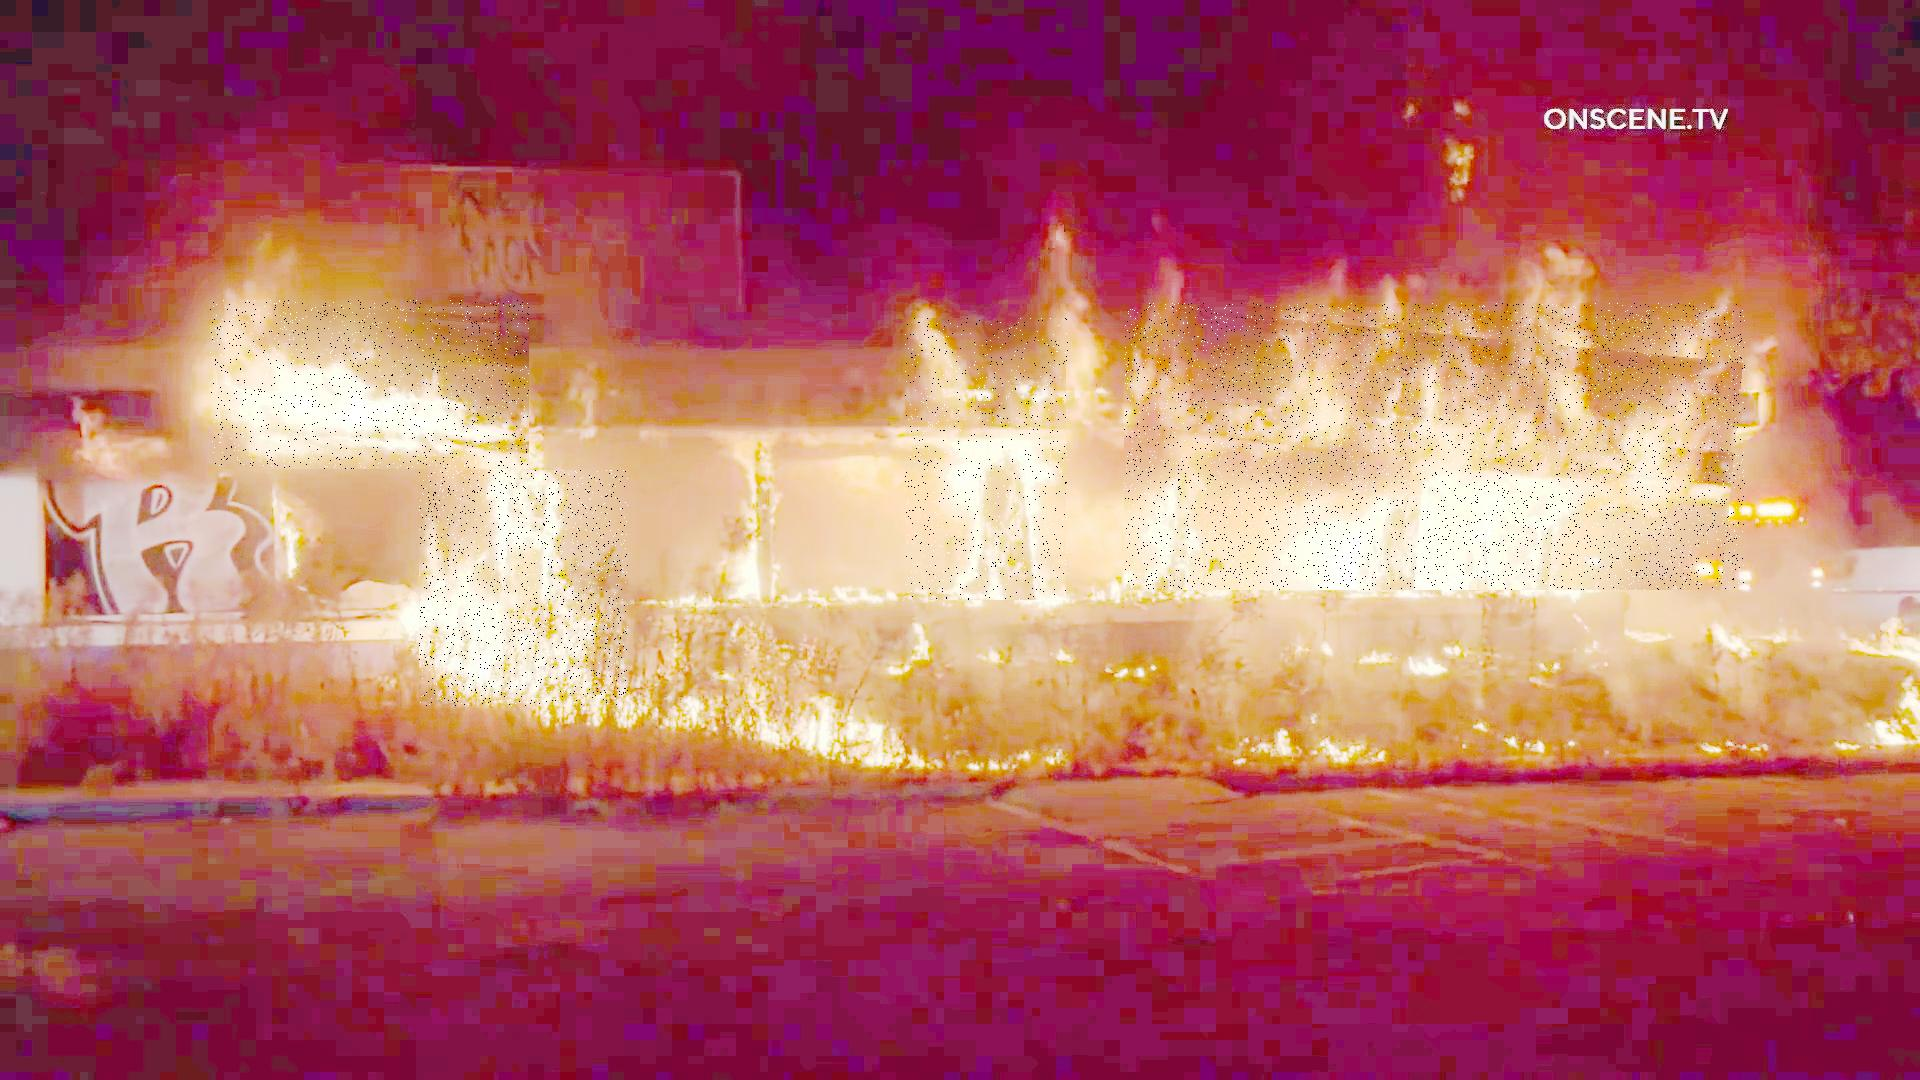fire: (1125, 303, 1746, 591), (211, 301, 529, 469), (419, 471, 628, 707), (906, 318, 1068, 600)
